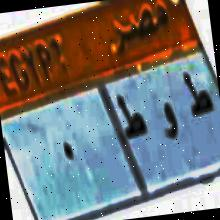0: (56, 126, 80, 180)
Taa: (181, 59, 216, 128), (115, 88, 150, 154)
waw: (158, 94, 183, 147)
